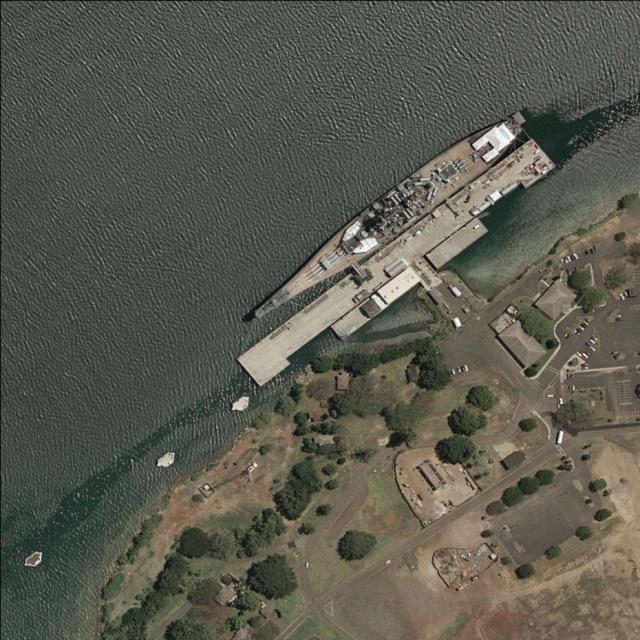Dock: (237, 138, 556, 388)
Other Warship: (244, 105, 525, 332)
